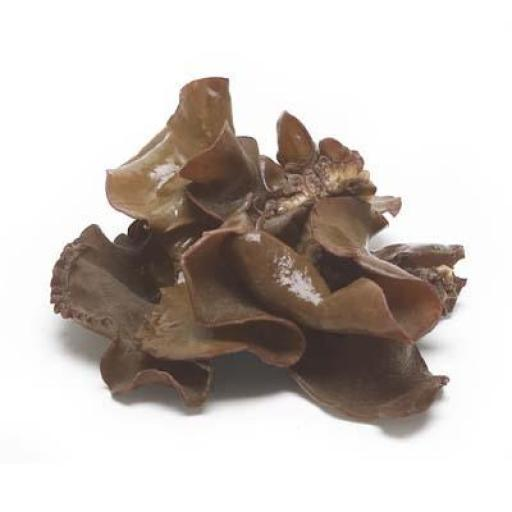mushroom: (15, 66, 509, 463)
